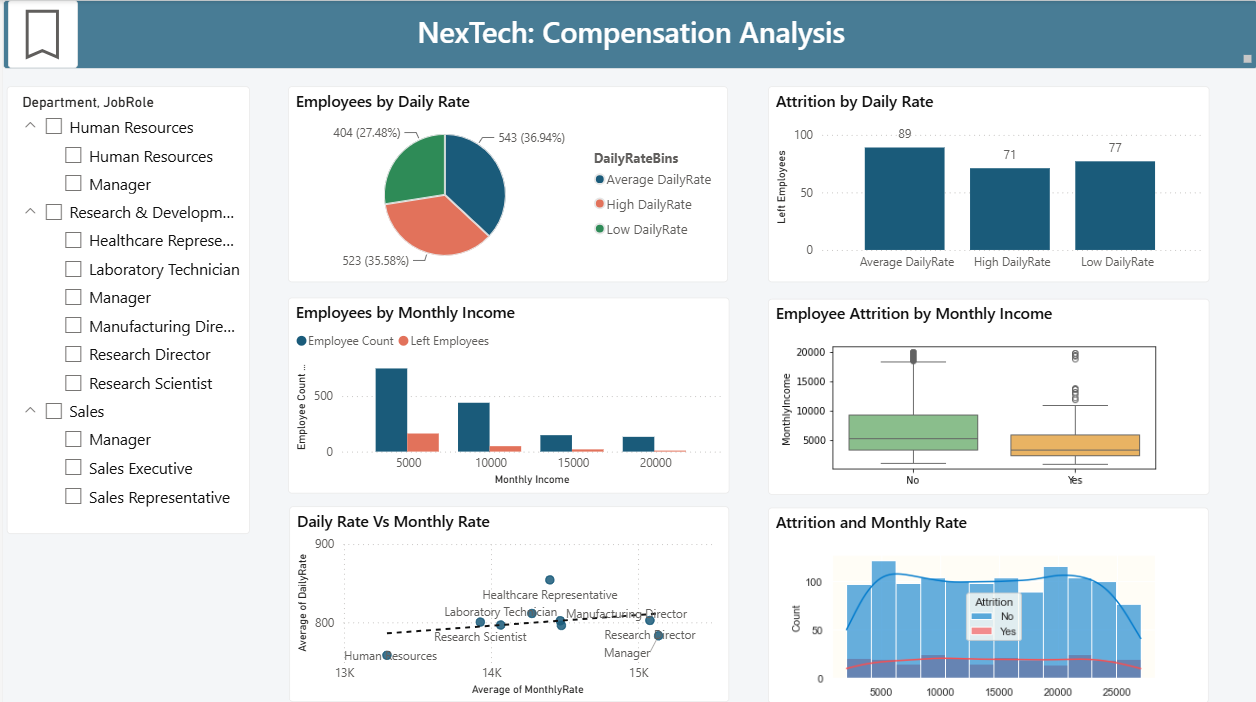

What the dashboard file says about the page in this screenshot:
{"tool":"powerbi","page":{"name":"Compensation","canvas":[1280,720],"ordinal":3},"visuals":[{"type":"clusteredColumnChart","title":"Employees by Monthly Income","fields":{"Y":["Sum(Survey Input.EmployeeCount)","All_Measures.Left Employees"],"Category":["Survey Input.MonthlyIncomeBins"]},"box":[290.6,303.1,450.3,200],"z":0},{"type":"pythonVisual","title":"Employee Attrition by Monthly Income","fields":{"Values":["Survey Input.Attrition","Survey Input.MonthlyIncome"]},"box":[780.2,304.3,450,200],"z":1000},{"type":"pythonVisual","fields":{"Values":["Survey Input.Attrition","Survey Input.MonthlyRate"]},"box":[780.3,517.1,449.4,200.6],"z":2000},{"type":"textbox","title":"NexTech: Compensation Analysis","box":[0,0,1279.8,70],"z":4000},{"type":"slicer","fields":{"Values":["Survey Input.Department","Survey Input.JobRole"]},"box":[3.5,88.4,247.7,457],"z":5000},{"type":"pieChart","title":"Employees by Daily Rate","fields":{"Category":["Survey Input.DailyRateBins"],"Y":["Sum(Survey Input.EmployeeCount)"]},"box":[290.6,88.3,449.1,200],"z":6000},{"type":"clusteredColumnChart","title":"Attrition by Daily Rate","fields":{"Category":["Survey Input.DailyRateBins"],"Y":["All_Measures.Left Employees"]},"box":[780.1,88.3,450.3,200],"z":7000},{"type":"actionButton","box":[4.9,0,71.2,69.9],"z":8000},{"type":"scatterChart","title":"Daily Rate Vs Monthly Rate","fields":{"X":["Avg(Survey Input.MonthlyRate)"],"Y":["Avg(Survey Input.DailyRate)"],"Category":["Survey Input.JobRole"]},"box":[291.9,516.3,448.8,201.2],"z":9000}]}

Visuals, with their boxes on the page's 1280x720 design canvas (x1, y1, x2, y2). These are canvas units, not pixel positions in the 1256x702 screenshot, which may show the page scaled, cropped or inside an application window:
"Employees by Monthly Income" clusteredColumnChart: 291,303,741,503
"Employee Attrition by Monthly Income" pythonVisual: 780,304,1230,504
pythonVisual - Survey Input.Attrition x Survey Input.MonthlyRate: 780,517,1230,718
"NexTech: Compensation Analysis" textbox: 0,0,1280,70
slicer - Survey Input.Department x Survey Input.JobRole: 4,88,251,545
"Employees by Daily Rate" pieChart: 291,88,740,288
"Attrition by Daily Rate" clusteredColumnChart: 780,88,1230,288
actionButton: 5,0,76,70
"Daily Rate Vs Monthly Rate" scatterChart: 292,516,741,718
